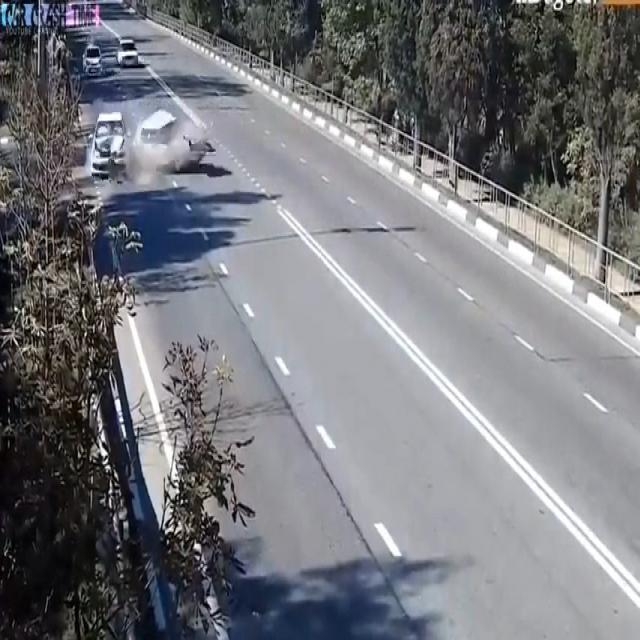Accident: (88, 88, 196, 220)
